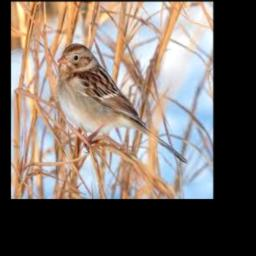Sparrow: (57, 43, 187, 164)
